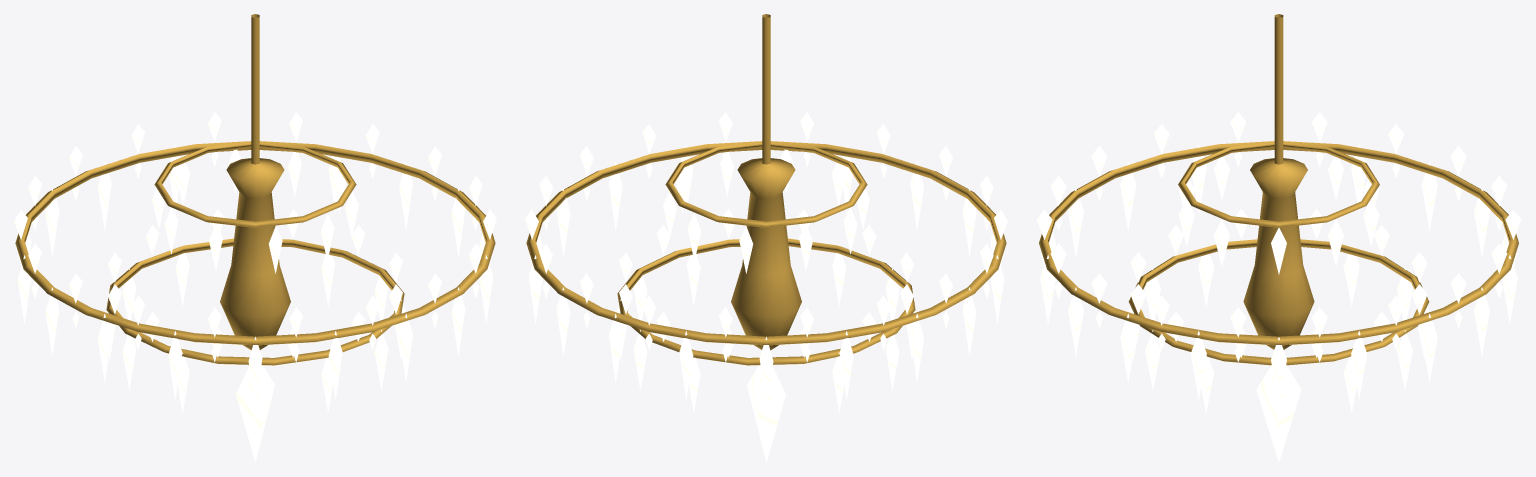
File: chandelier.glb
3 views of the same model, side by side, from view 1: azimuth 30°, elevation 25°; view 2: azimuth 150°, elevation 25°; view 3: azimuth 270°, elevation 25° (orthographic).
Visible parts, largest first — view 1: ch_stem; view 2: ch_stem; view 3: ch_stem.
Part boxes in pixels (bbox=[...]): ch_stem: bbox=[14, 14, 496, 462]; ch_stem: bbox=[525, 14, 1007, 462]; ch_stem: bbox=[1036, 14, 1521, 461].
Bounding box in the file's own units: 3 × 3.05 × 3.
